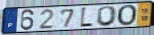2: (38, 8, 56, 30)
6: (19, 9, 35, 32)
7: (60, 8, 76, 28)
L: (79, 6, 95, 29)
O: (116, 4, 139, 27), (95, 6, 119, 28)
